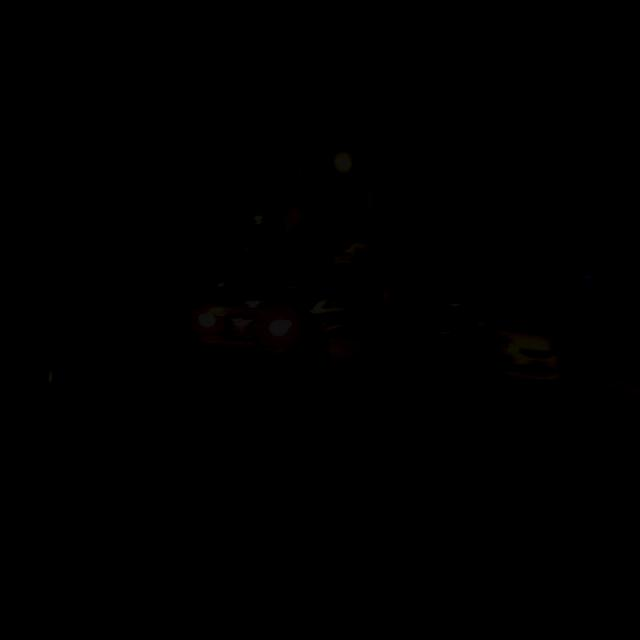Car: (193, 284, 328, 392), (434, 293, 564, 394)
